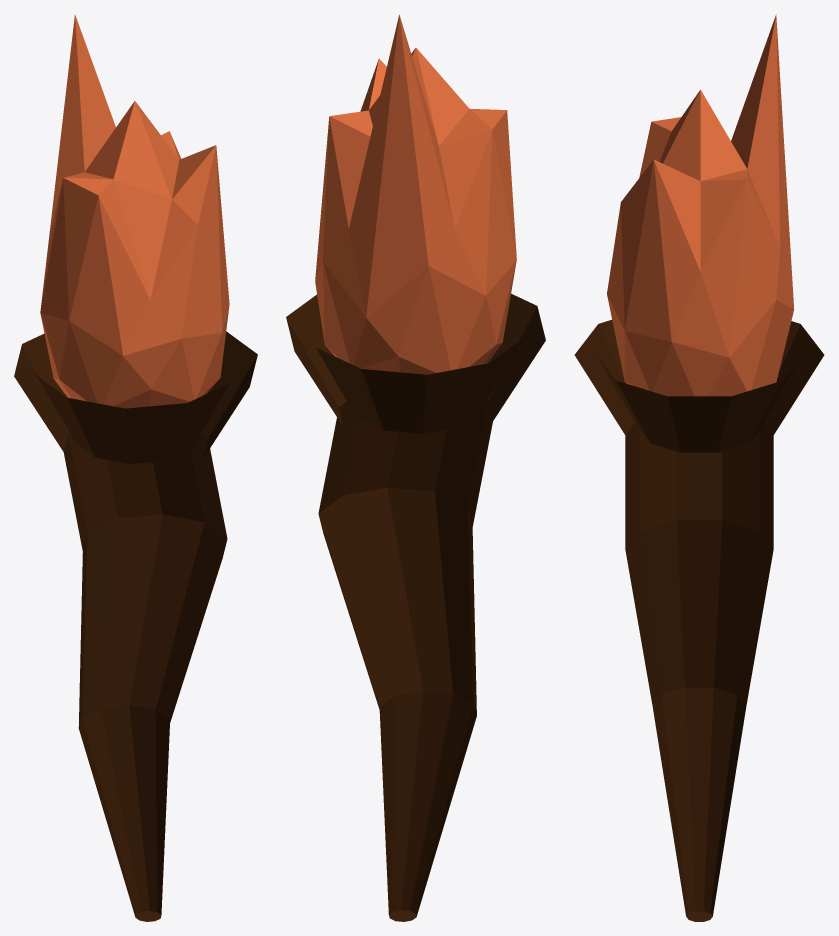
File: torch.fbx
3 views of the same model, side by side, from view 1: azimuth 30°, elevation 25°; view 2: azimuth 150°, elevation 25°; view 3: azimuth 270°, elevation 25° (orthographic). The views are drawn at different scales.
Parts seen in each view (by area): view 1: Torch; view 2: Torch; view 3: Torch.
Part boxes in pixels (<box>): Torch: <box>14,14,257,921</box>; Torch: <box>286,14,545,921</box>; Torch: <box>574,14,824,921</box>.
Size of the model in its own units: 55.45 by 228 by 58.3.
